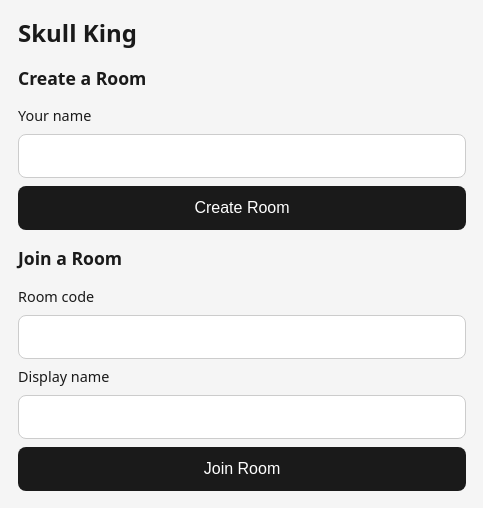
Test: App › forces the Scoreboard screen once the Room is Completed, hiding the tab toggle
In the field labelled "Your name": (242, 156) [18,134,466,178], type "Alice"
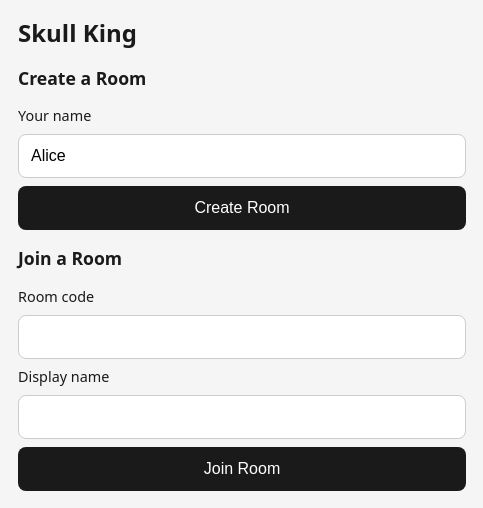
Click the button "Create Room": (242, 208) [18,186,466,230]
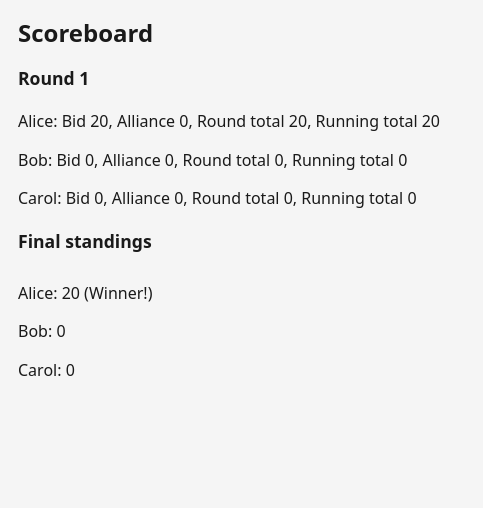
Now the heading "Scoreboard" is shown, box [18,16,153,49]
Now the heading "Final standings" is shown, box [18,229,152,253]
